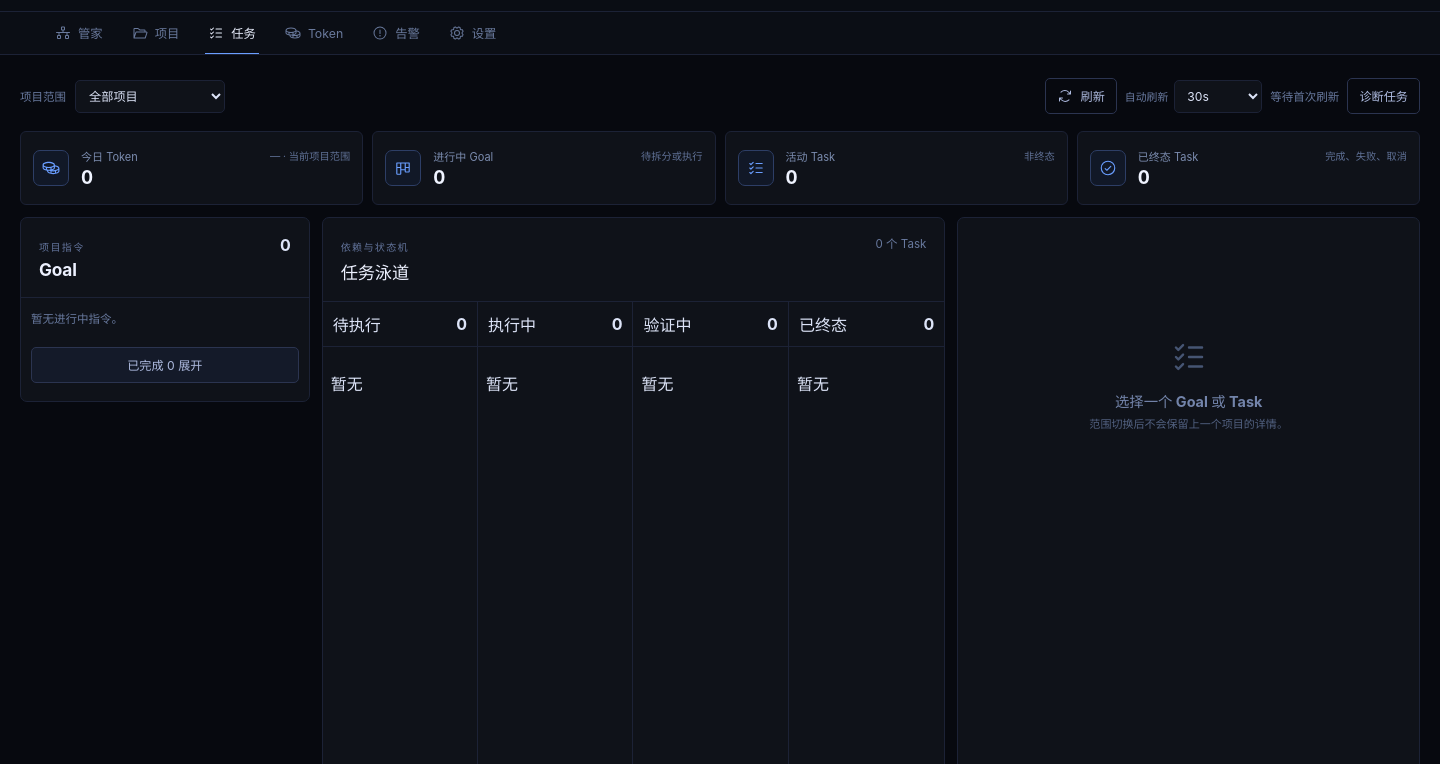
Scenario: shows history request failure state
The image size is (1440, 764).
Click the button "Token": x=314, y=33 [272,12,356,54]
(page scrolled)
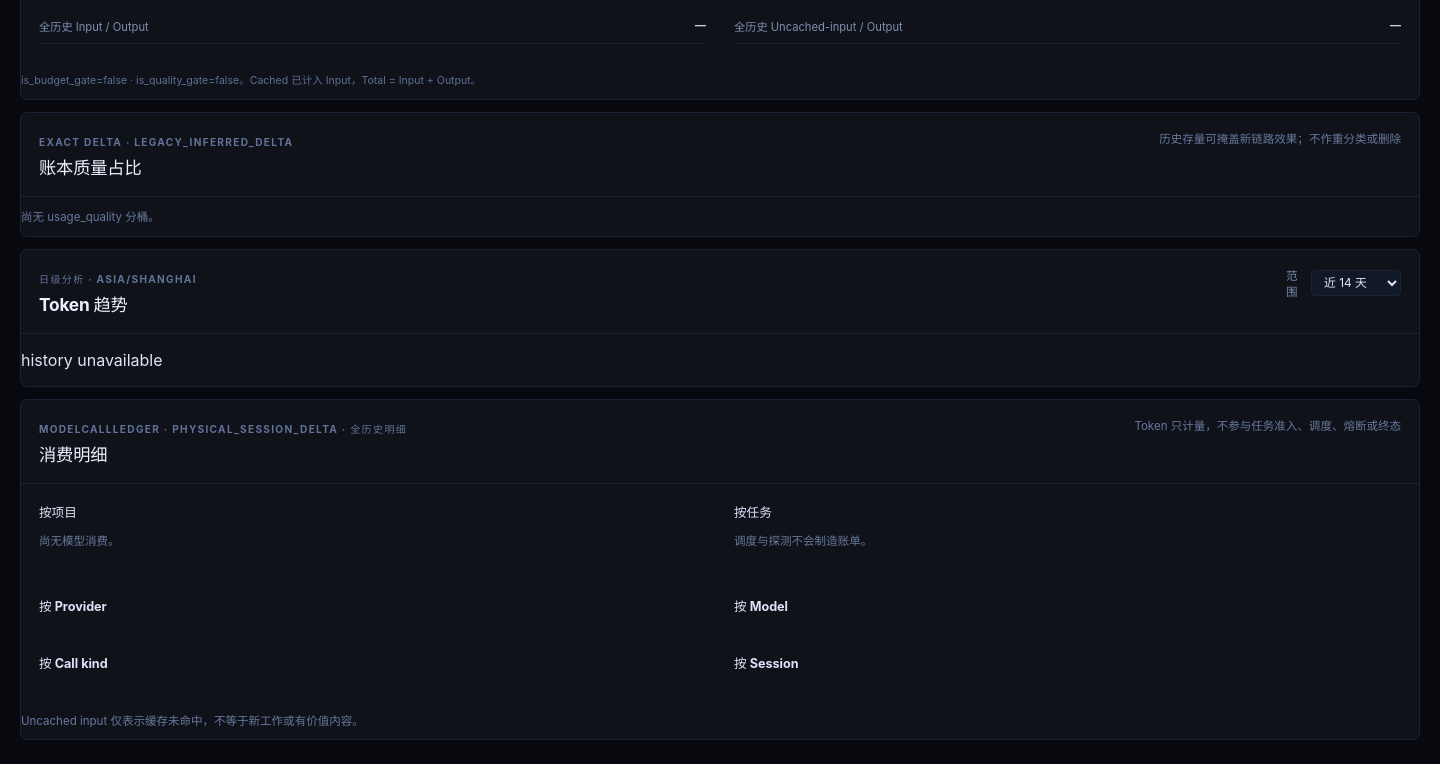
Check: the heading "Token 趋势" is shown, box [39,294,128,315]
Check: the element with test id "token-history-error" reads "history unavailable", box [21,350,162,370]
